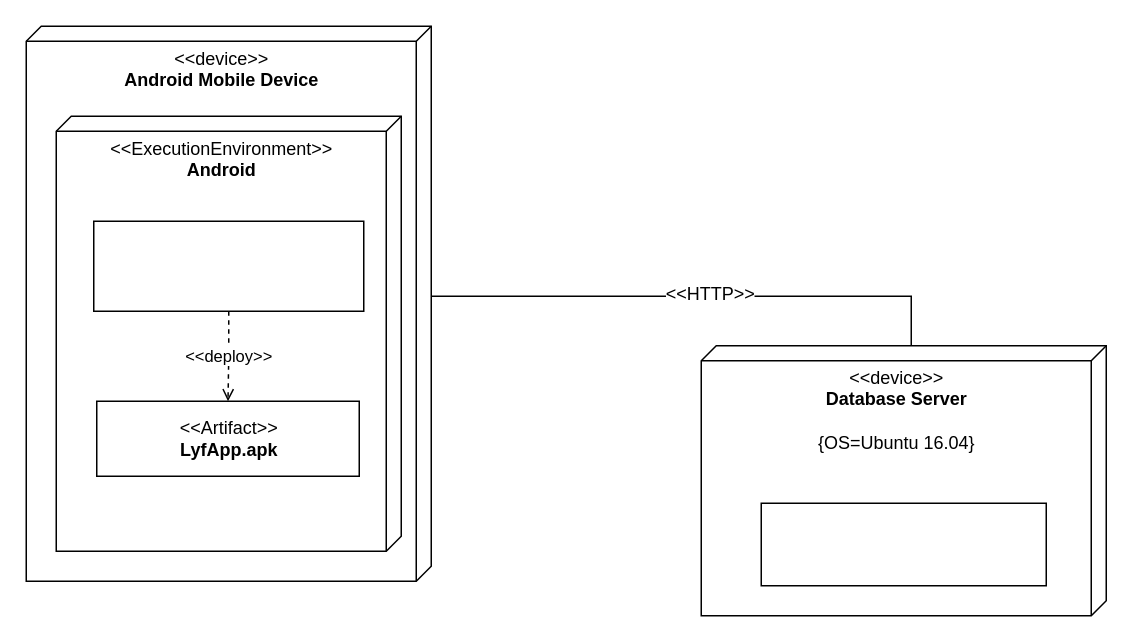
Image size: 1133x642. Some labels were removed from this diagram. Here are the shapes that lost their labels. From the top down, the centre of each, then its label:
At (x=228, y=265): "<<DeploymentSpecification>> AndroidManifest.xml".
At (x=903, y=544): "APCIS DB <<database>> MariaDB 10.1.34".
